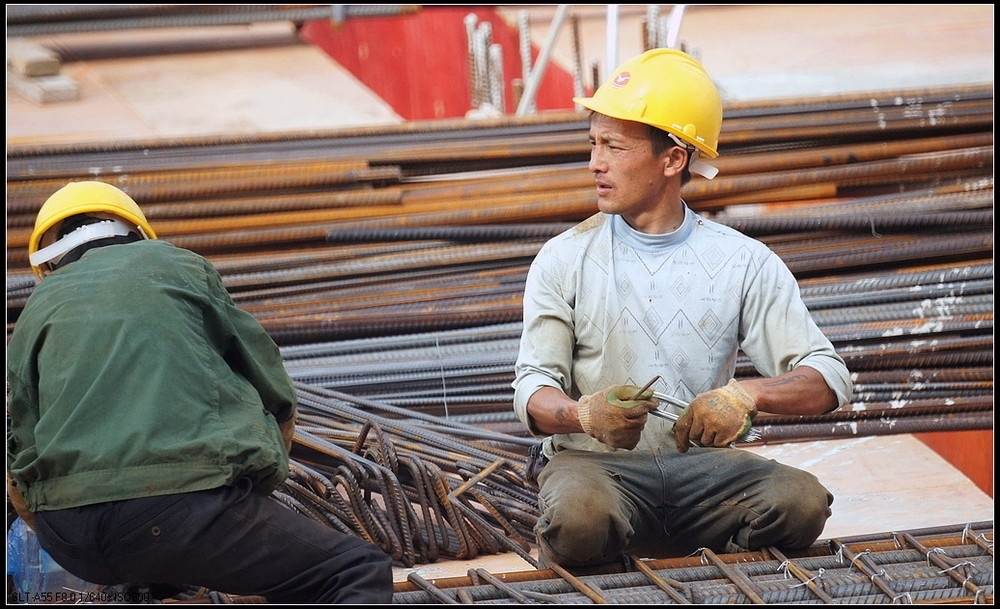yellow: (577, 47, 726, 215), (28, 166, 157, 288)
